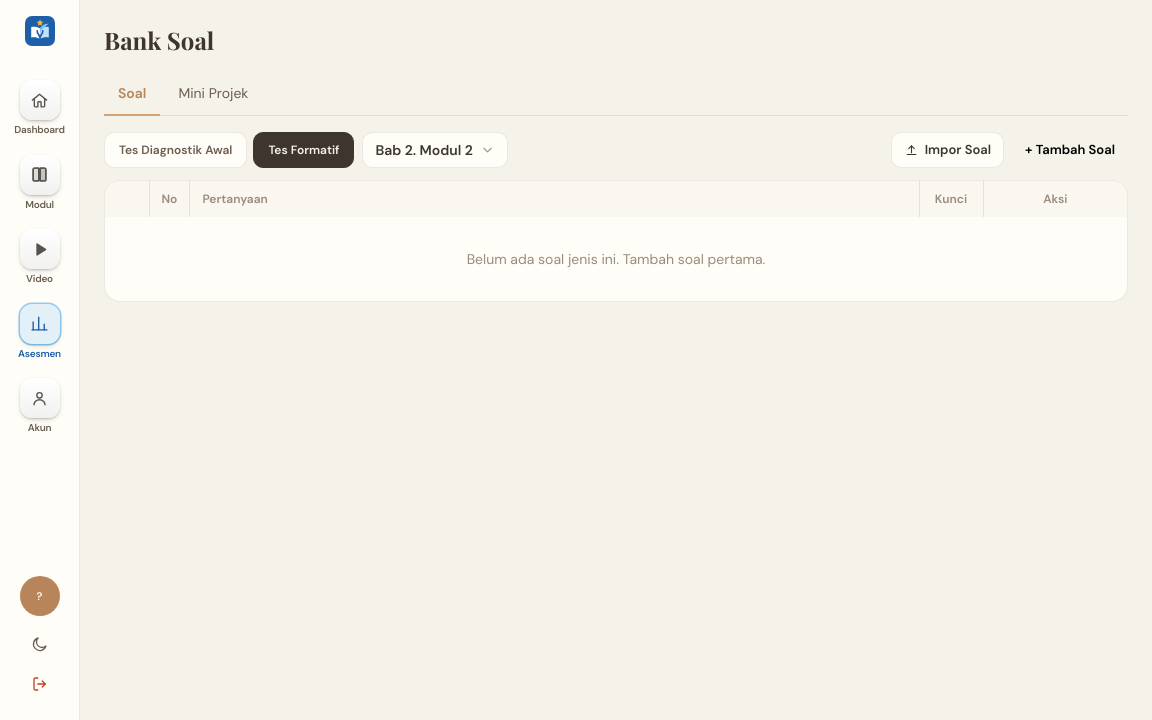
Scenario: BankSoal › antrean #329: tombol Impor Soal membuka modal dengan Unduh Templat
nonaktif sampai daftar soal selesai dimuat (urutan impor dihitung dari daftar itu)
Click the button "Impor Soal" at (947, 150), box [891,132,1004,168]
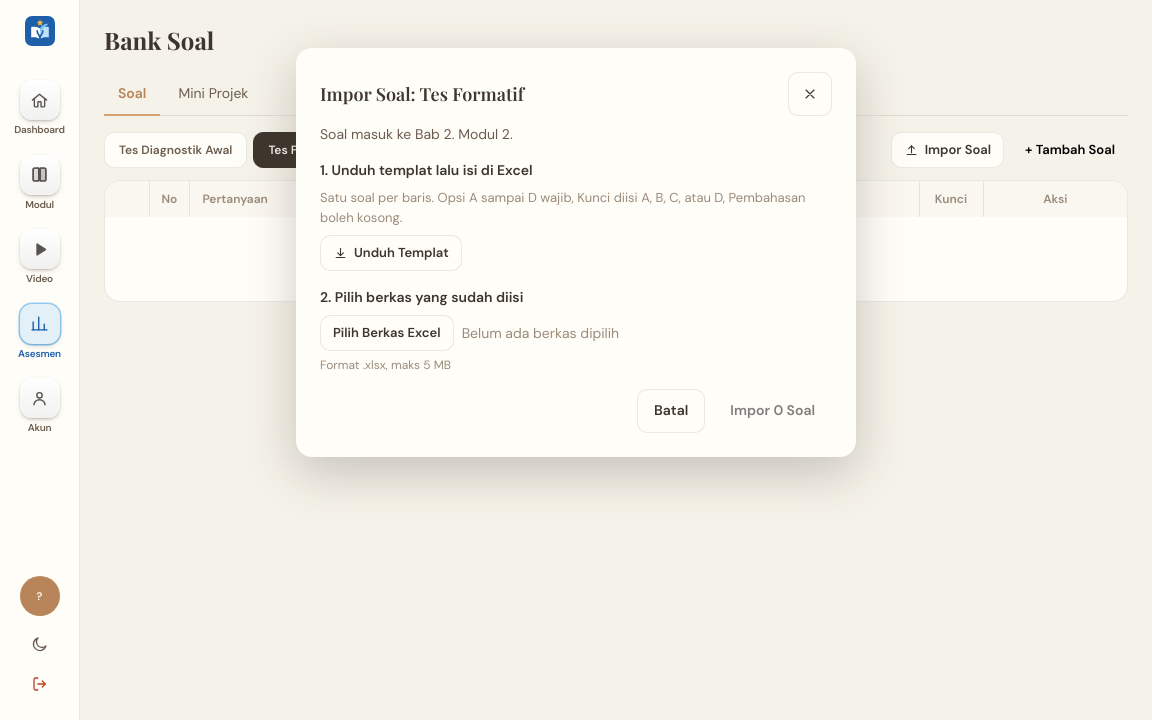
expect the text "Soal masuk ke Bab 2. Modul 2." is shown: met, box [320,125,513,143]
expect the button "Unduh Templat" is shown: met, box [320,235,462,271]
expect the button "Impor 0 Soal" is disabled: met, box [713,389,832,433]
